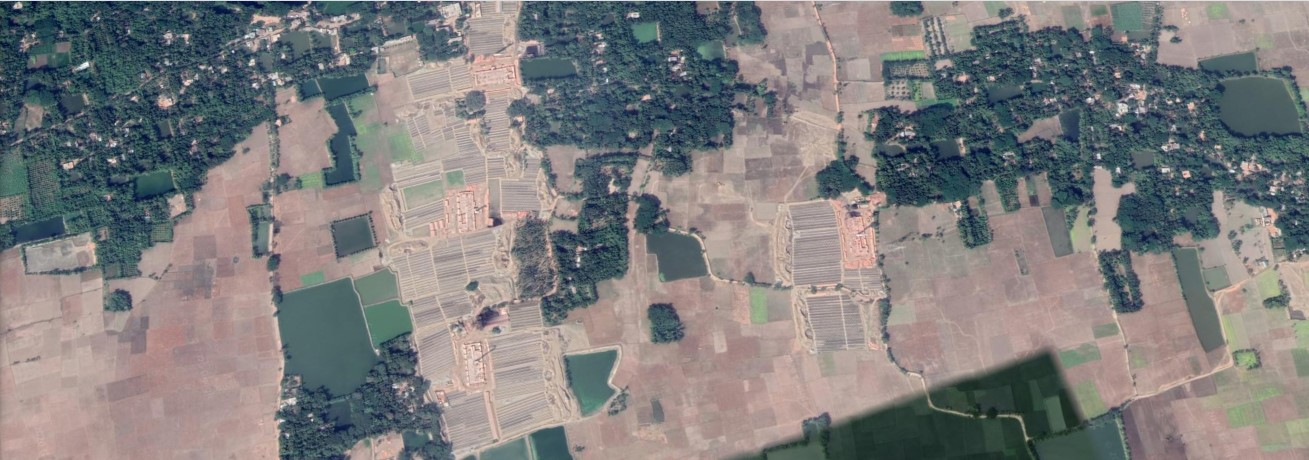kiln: (453, 335, 500, 391), (837, 214, 876, 266), (453, 190, 486, 236), (471, 60, 516, 86)
